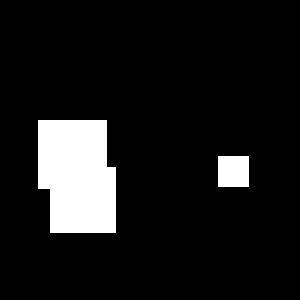circle: (38, 120, 107, 189), (50, 167, 116, 233), (218, 156, 249, 187)
